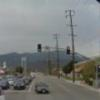traffic lights: (38, 44, 42, 52)
